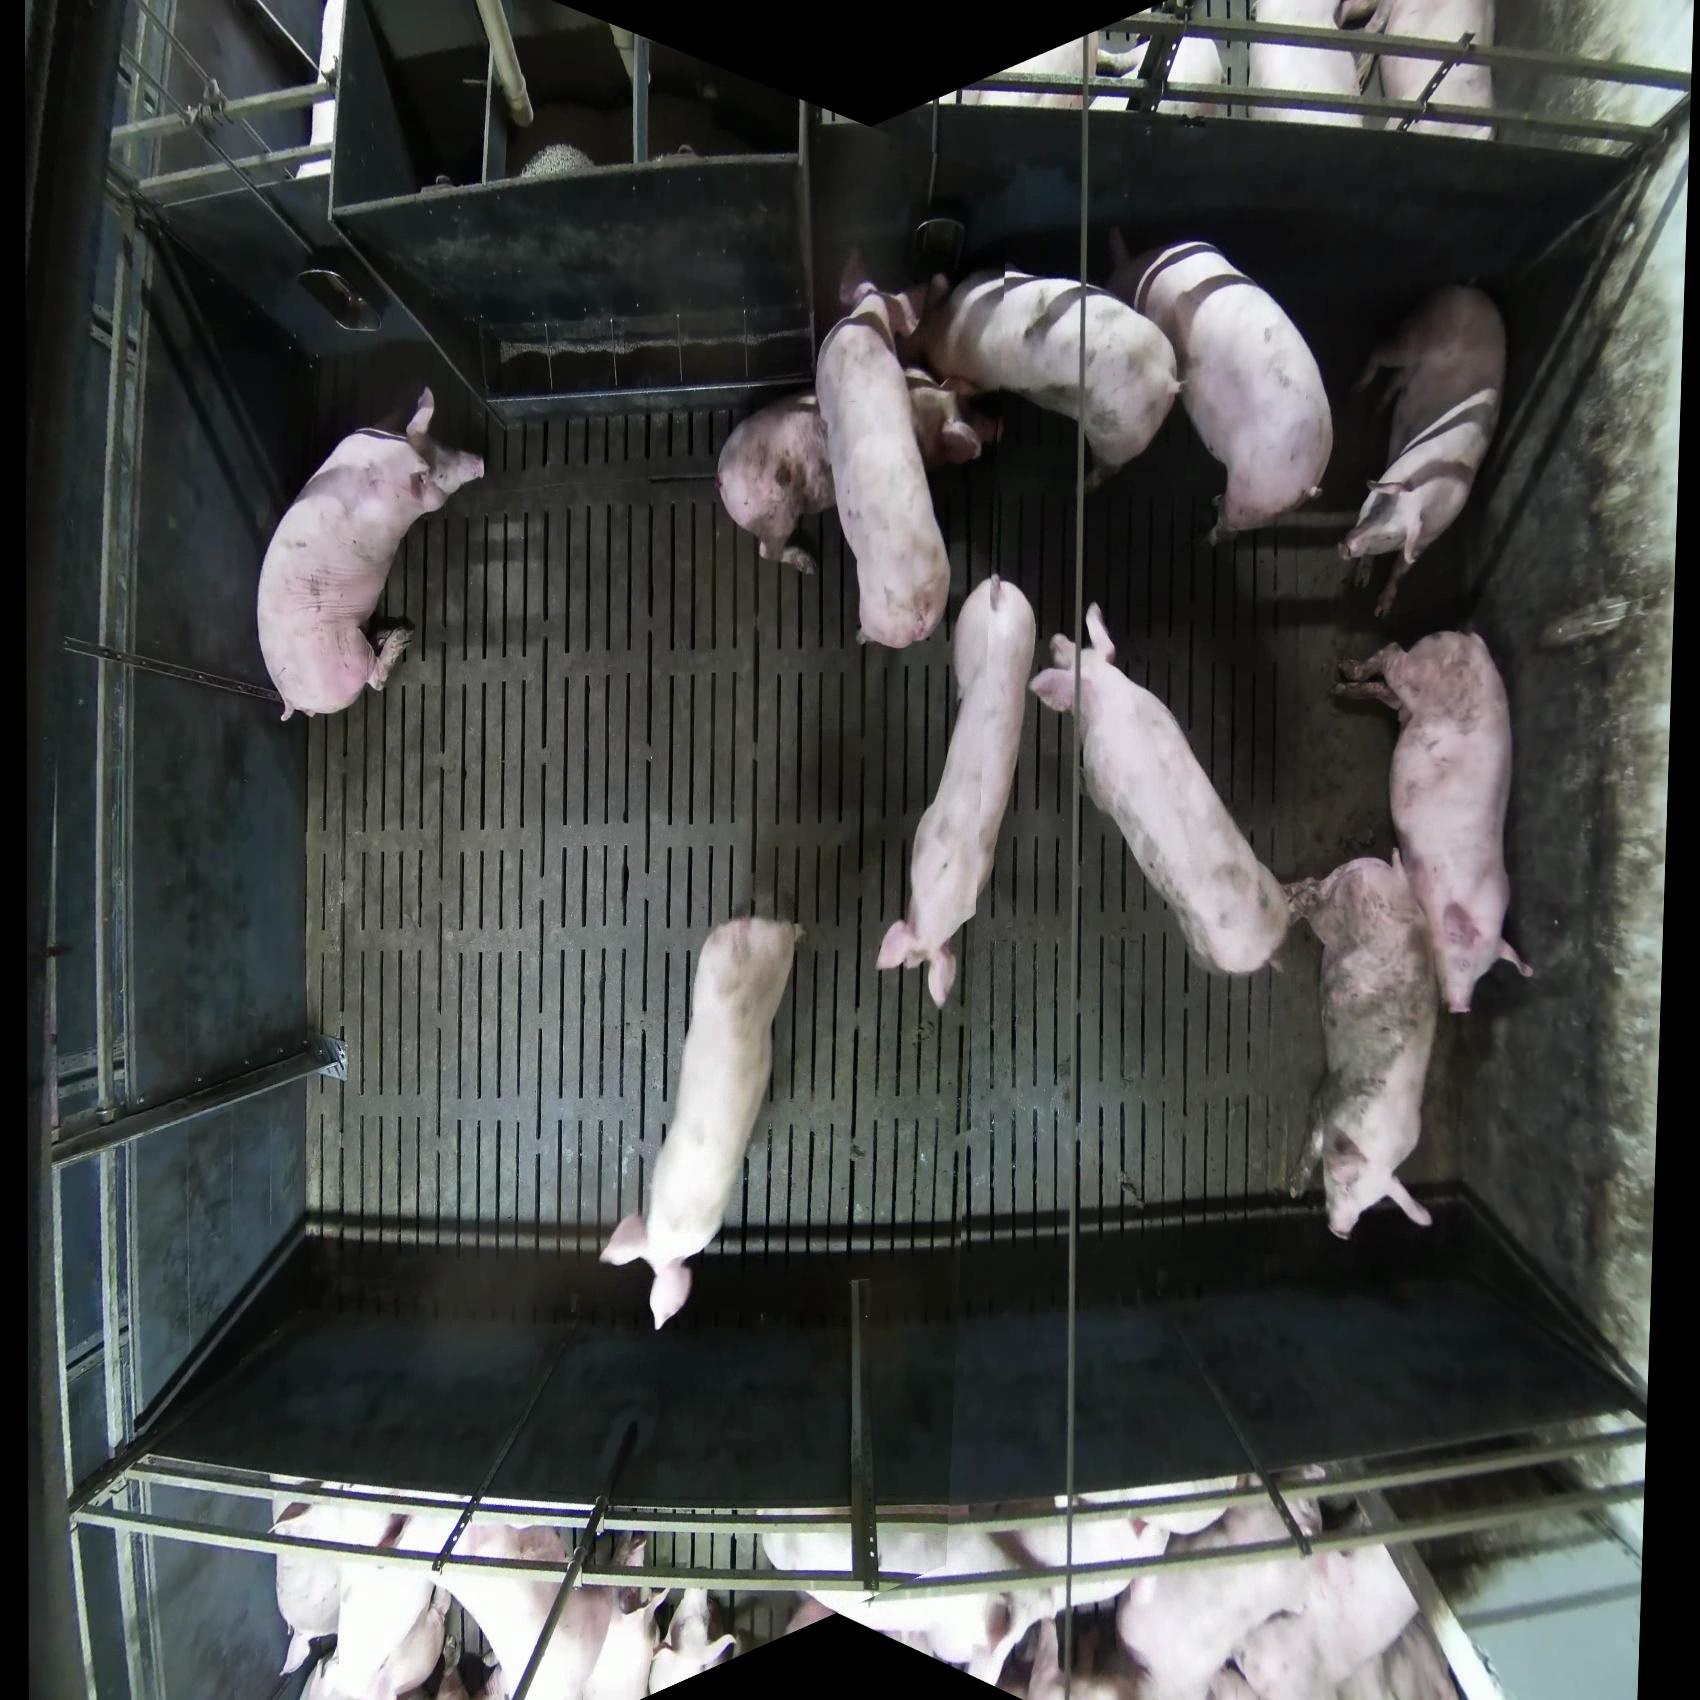pig: (1027, 601, 1294, 979), (598, 912, 805, 1333), (1329, 627, 1537, 1017), (255, 385, 486, 722), (1101, 223, 1336, 550), (875, 573, 1038, 1009), (903, 265, 1182, 493), (1281, 848, 1442, 1241), (1336, 282, 1509, 620), (813, 269, 953, 651), (715, 374, 971, 578), (437, 1519, 665, 1698), (271, 1498, 451, 1698), (1337, 2, 1498, 142), (715, 391, 834, 578), (1249, 2, 1375, 128), (1098, 26, 1227, 121), (903, 369, 982, 472)
